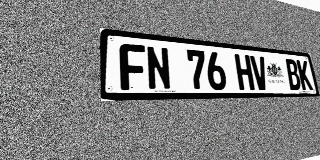6: (205, 51, 227, 90)
7: (185, 49, 209, 90)
B: (284, 59, 302, 90)
F: (119, 43, 147, 90)
H: (234, 54, 255, 90)
K: (296, 60, 313, 90)
N: (145, 45, 172, 90)
V: (250, 55, 270, 90)
